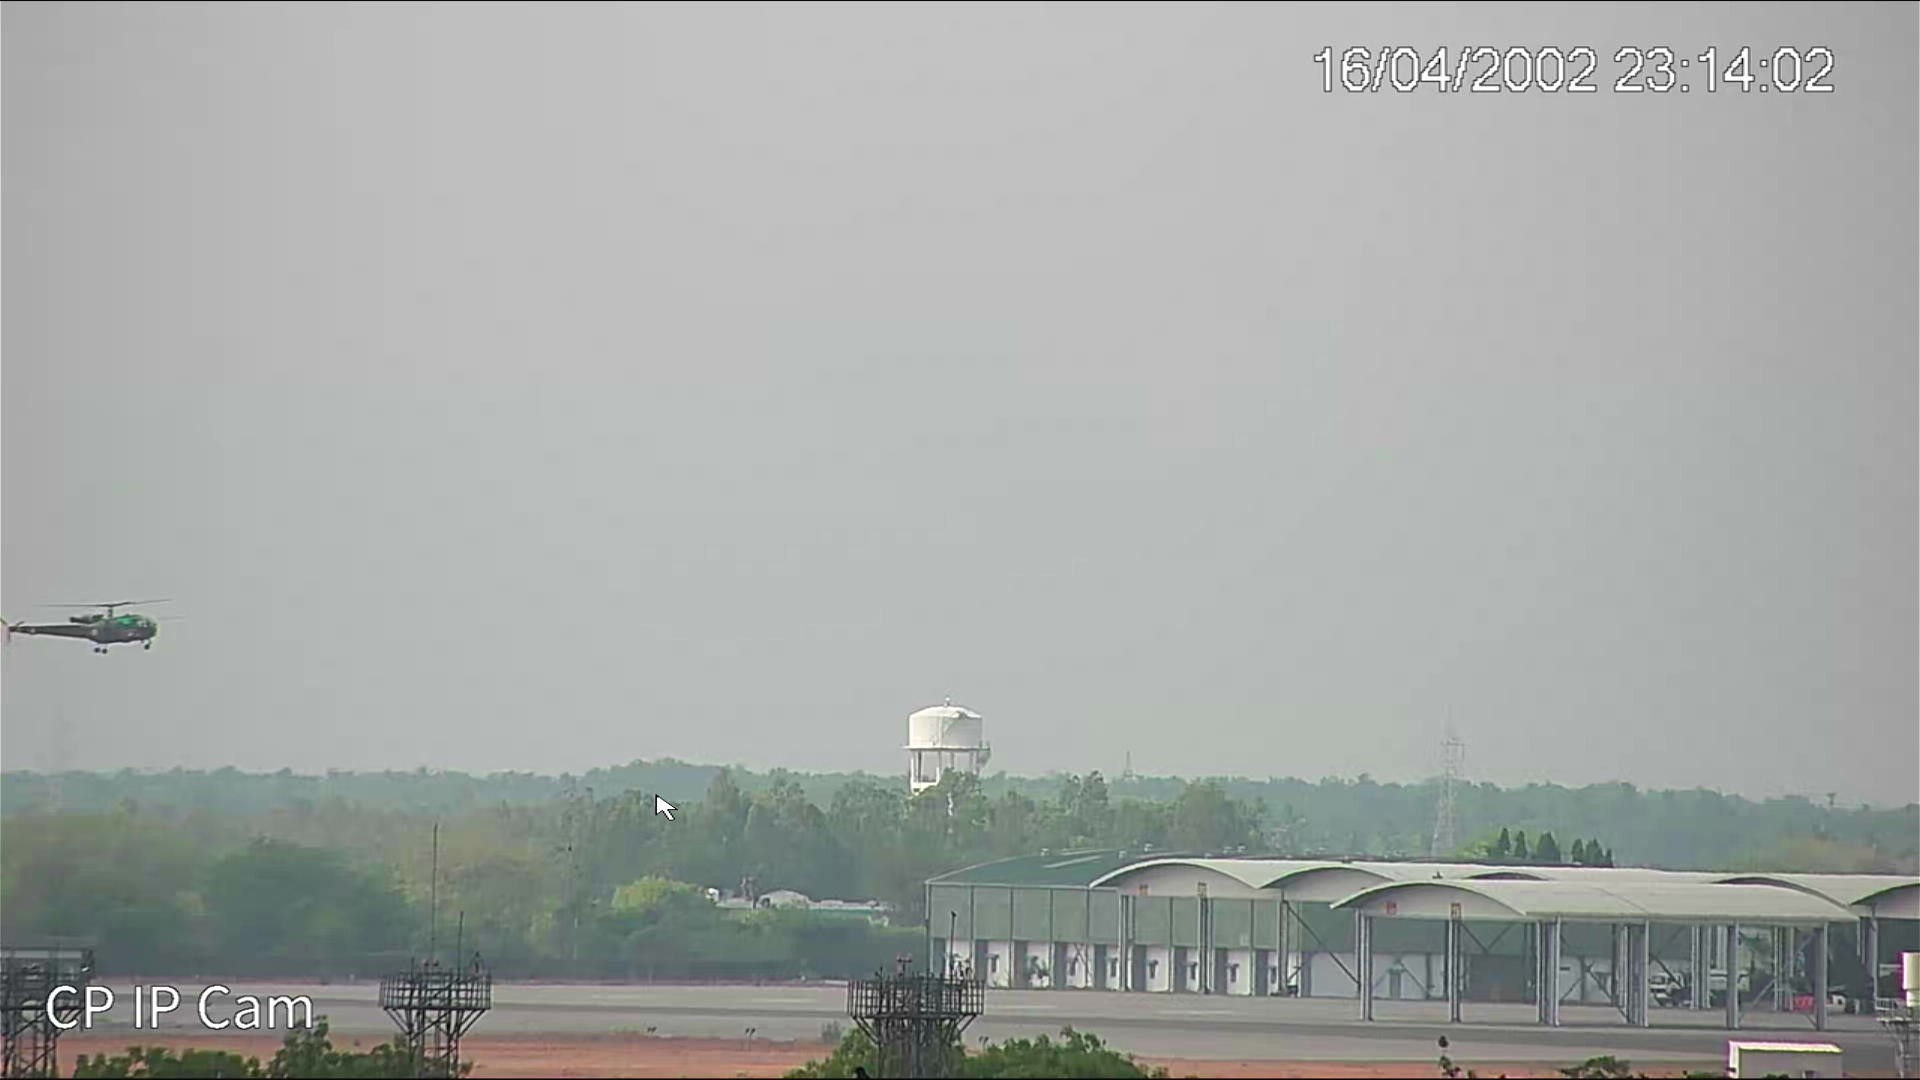SU_30: (3, 603, 165, 659)
